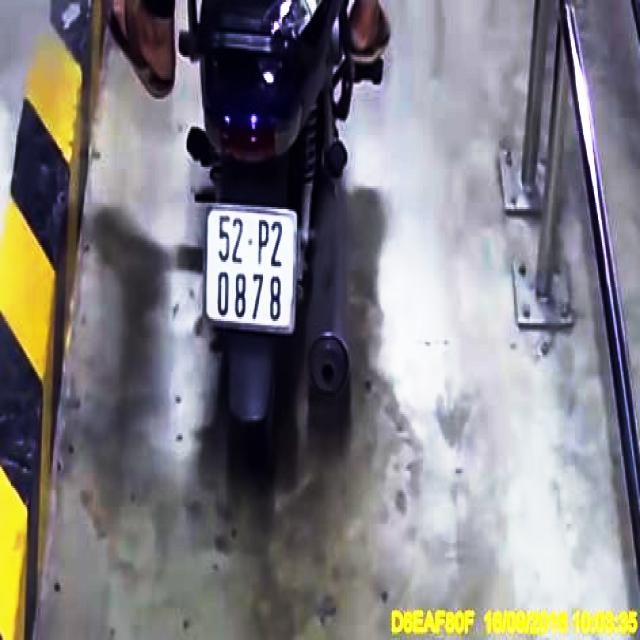license_plate: (205, 202, 298, 331)
